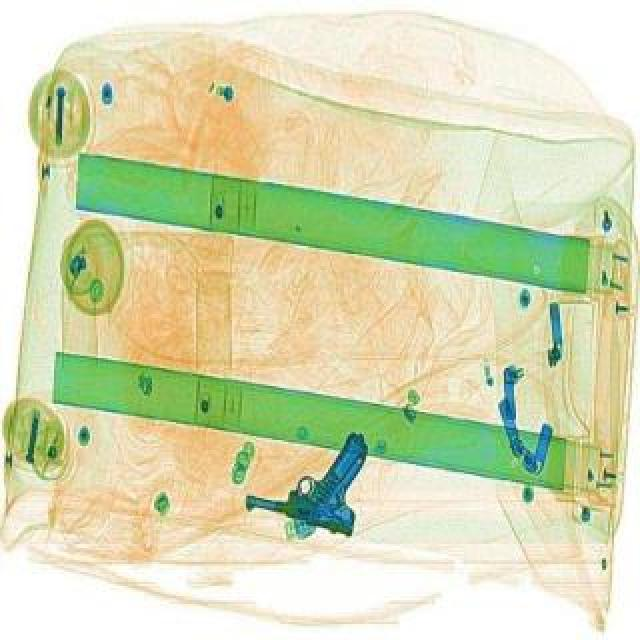gun: (240, 414, 376, 536)
